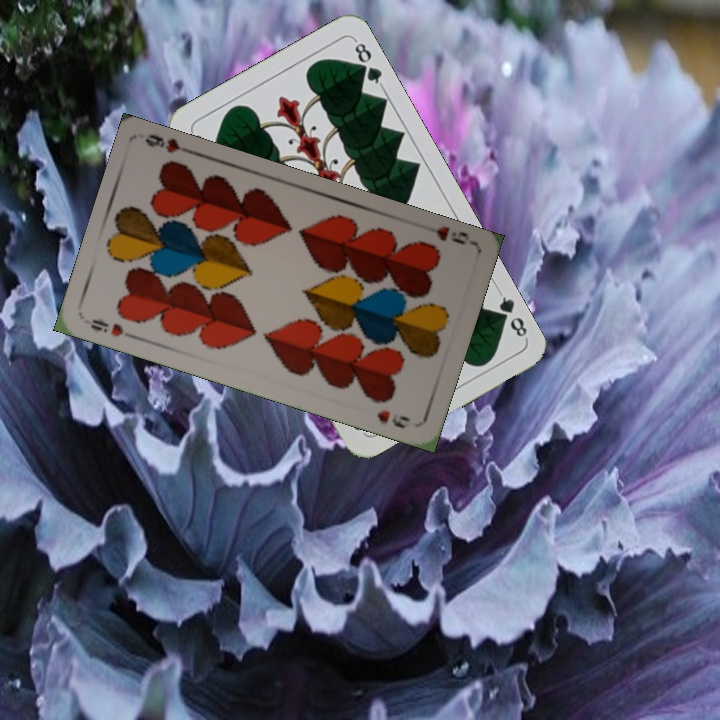G8: (490, 287, 530, 341)
H9: (86, 315, 140, 342), (431, 222, 470, 247)
